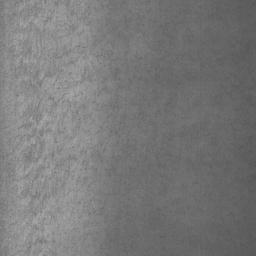Silk spot: (7, 0, 217, 256), (144, 194, 212, 225)
